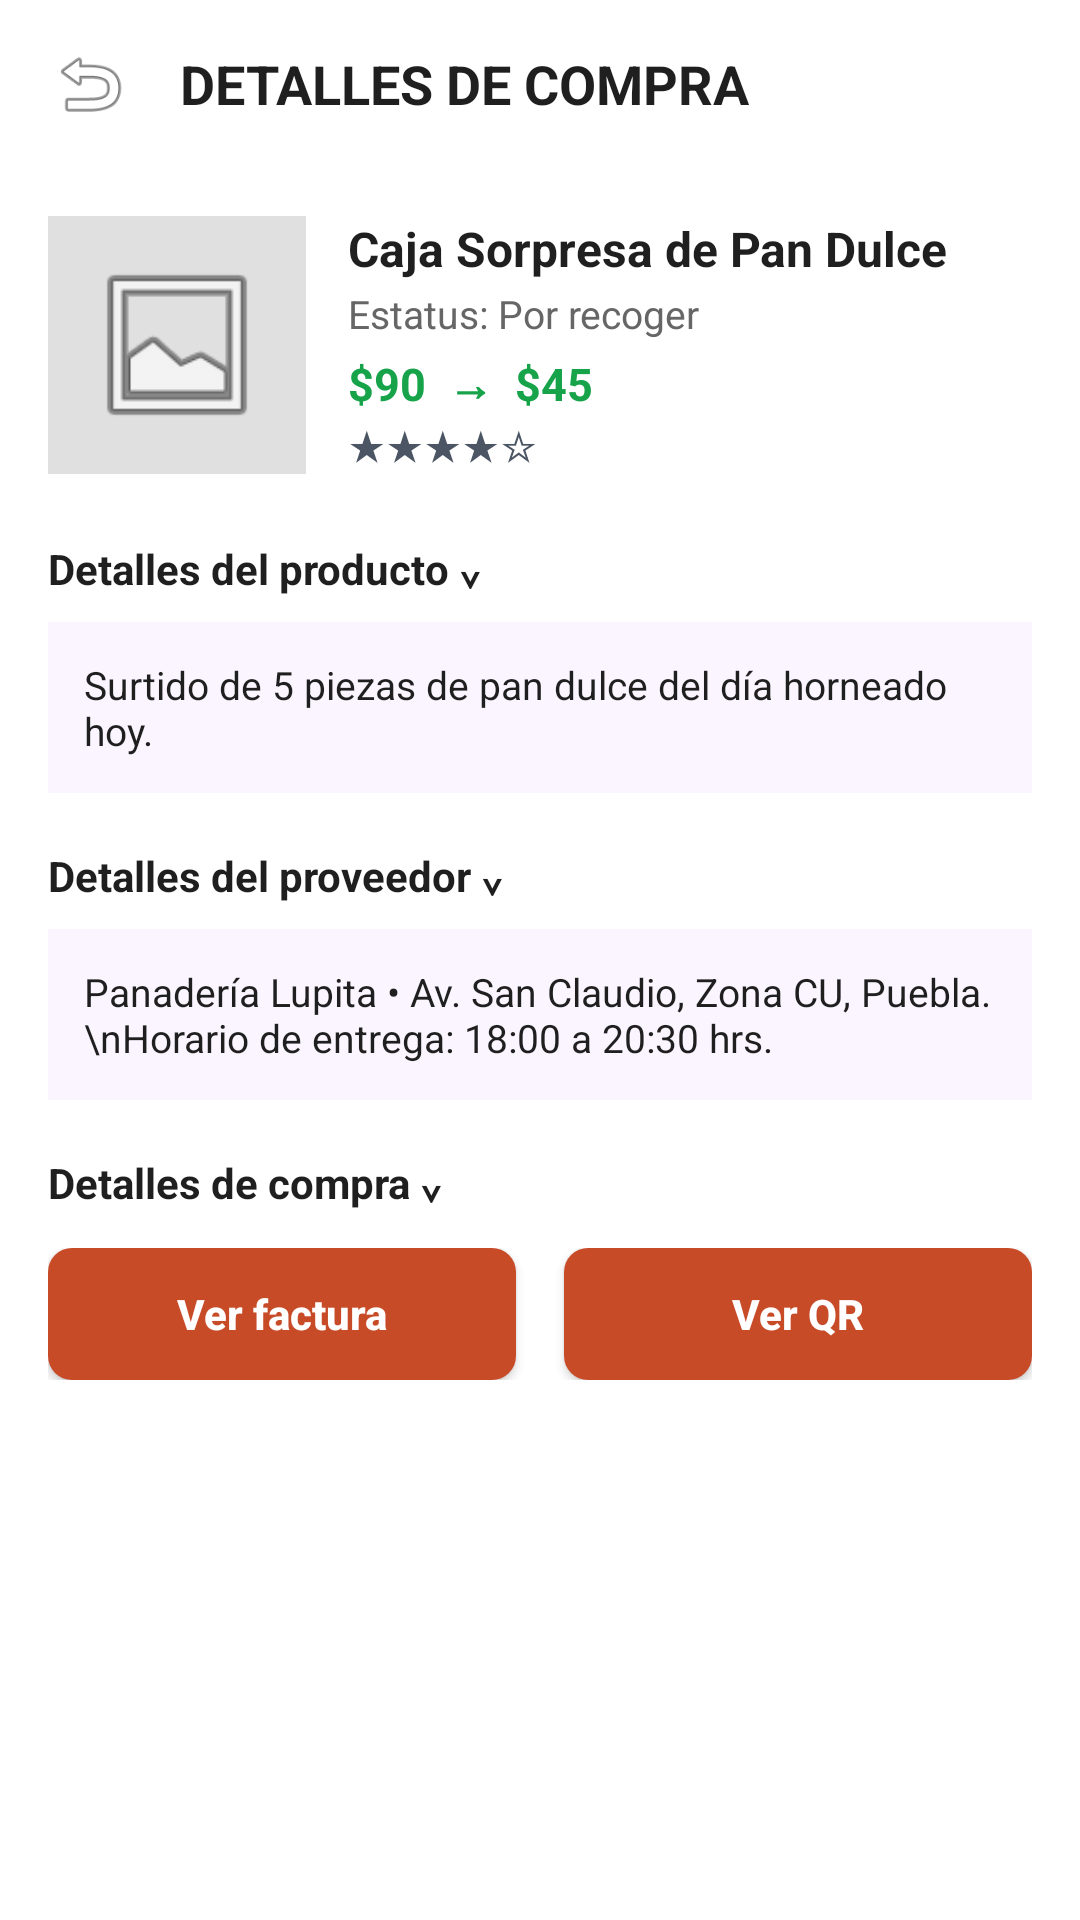

Named icons in this screenshot (1080px x 1920px) and their centers, (x=x, y=y):
gallery: (x=177, y=345)
revert: (x=91, y=84)
